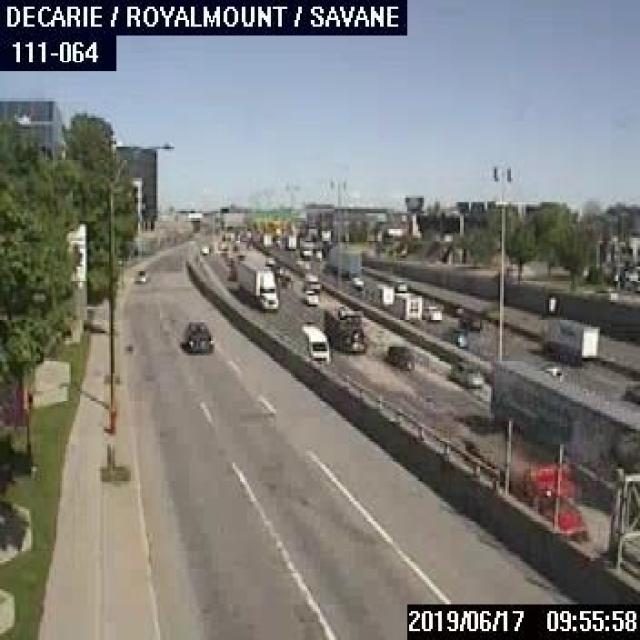vehicle: (491, 357, 638, 503), (538, 318, 598, 366), (236, 257, 278, 309), (324, 302, 366, 351), (322, 244, 362, 286), (300, 322, 328, 364), (446, 358, 484, 387), (182, 319, 211, 351), (393, 290, 421, 318), (384, 343, 413, 369), (372, 282, 393, 304), (456, 311, 480, 329), (444, 328, 464, 346), (421, 304, 441, 320), (303, 272, 320, 290), (303, 288, 317, 304), (132, 269, 148, 282), (199, 243, 208, 253)
